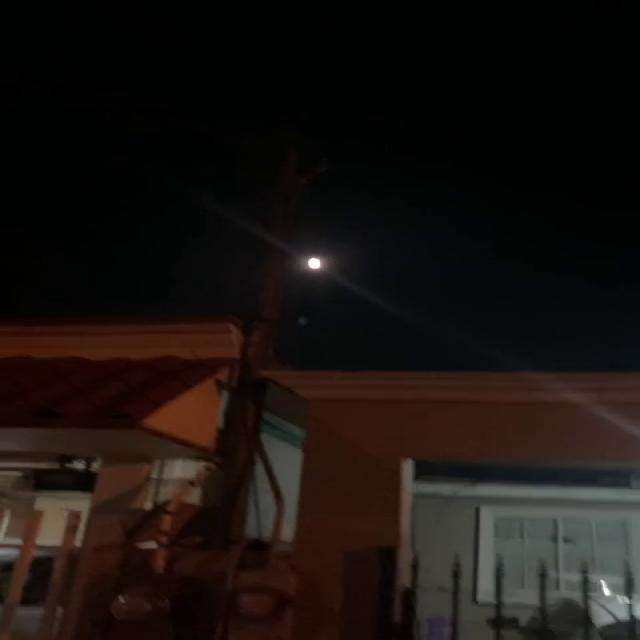moon: (303, 250, 335, 286)
